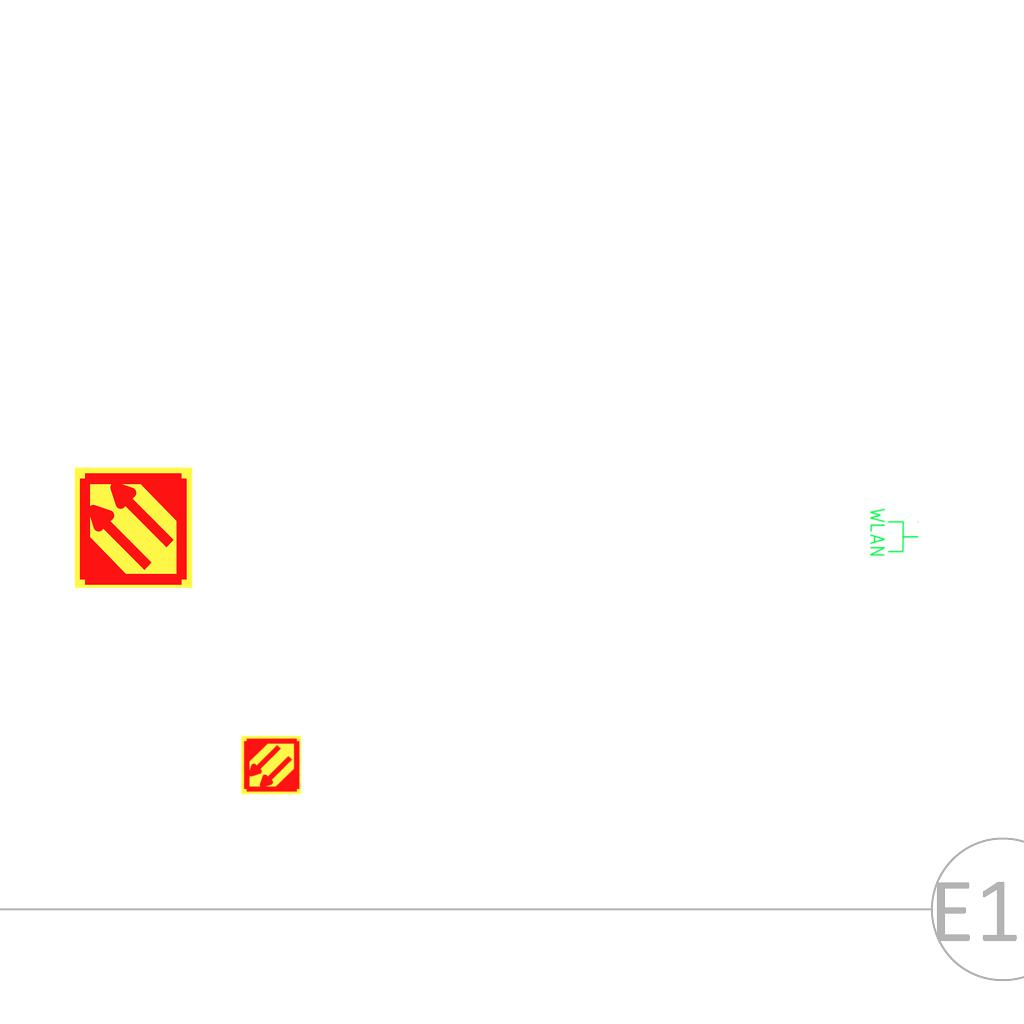ASR_Ansaugrauchmelder: (71, 465, 196, 590), (240, 734, 302, 796)
WLAN: (868, 506, 920, 558)
